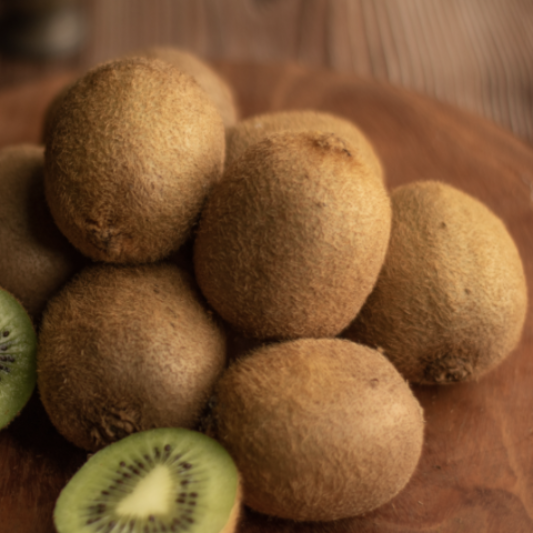kiwi: (170, 123, 398, 333), (180, 336, 446, 516), (11, 258, 232, 461), (24, 45, 229, 257), (350, 177, 530, 407)
